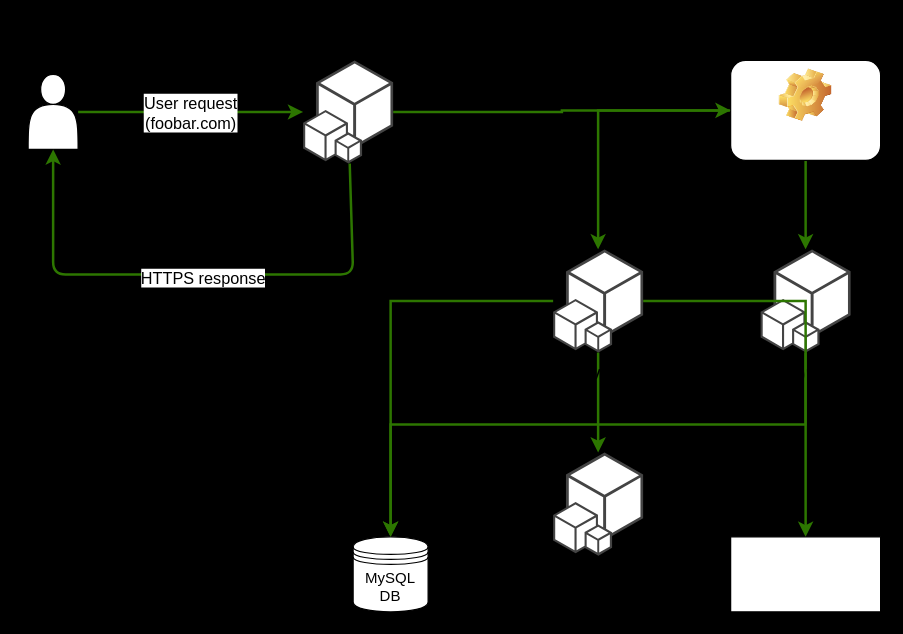
Some shapes in this 903 by 634 pixel diagram are drawn without their labels. Here are the shapes that lost their labels. From the top down, the centre of each, then its label:
At (347,111): "Web Server (Nginx )".
At (805,109): "Load Balancer (HAproxy)".
At (805,574): "Codebase".
